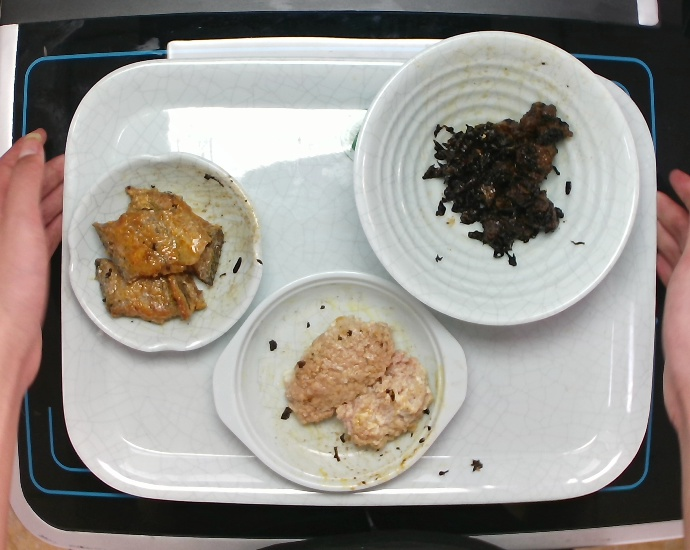JYsf-Ao_Yuan_Wan: (65, 145, 269, 355)
JYsf-Shuang_Er_Pan: (206, 265, 472, 497)
JYsf-Xiao_Tang_Wan: (348, 27, 645, 330)
